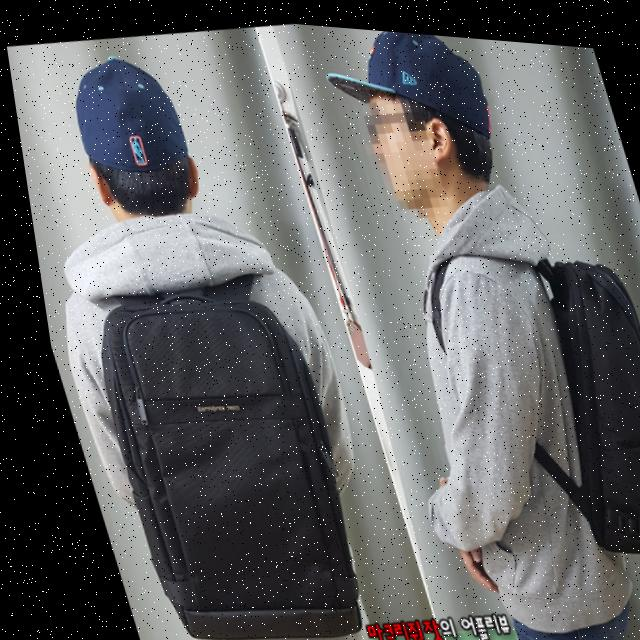backpack: (29, 239, 382, 640)
